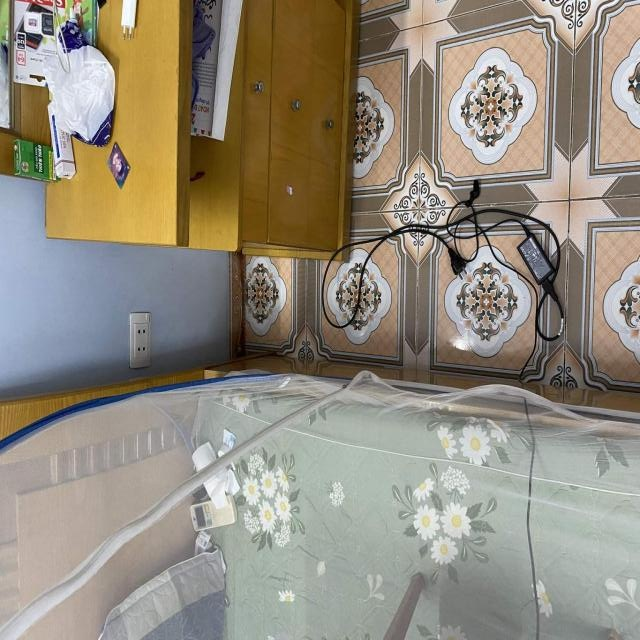outlet: (129, 312, 151, 370)
